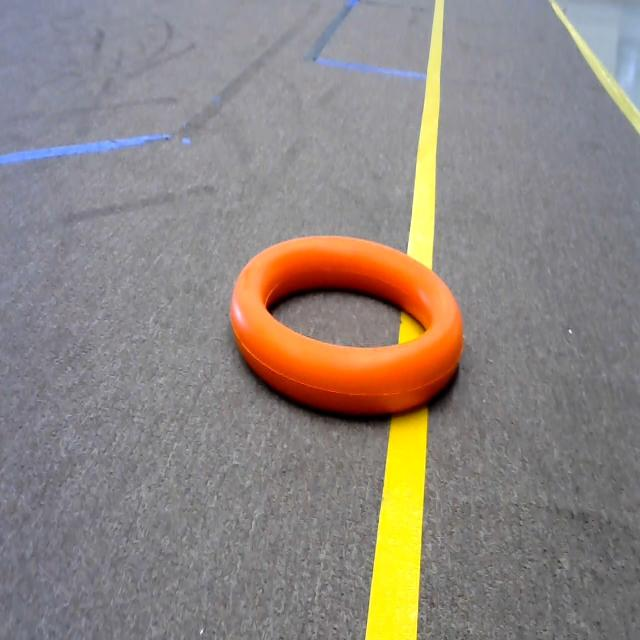note: (218, 199, 480, 467)
